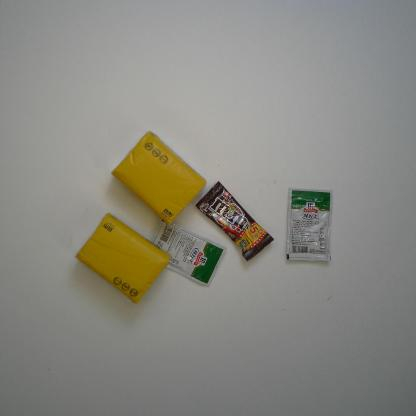Chocolate: (193, 180, 275, 261)
Seasoner: (146, 217, 230, 286), (285, 186, 333, 262)
Tissue: (109, 129, 209, 227), (73, 212, 172, 304)
